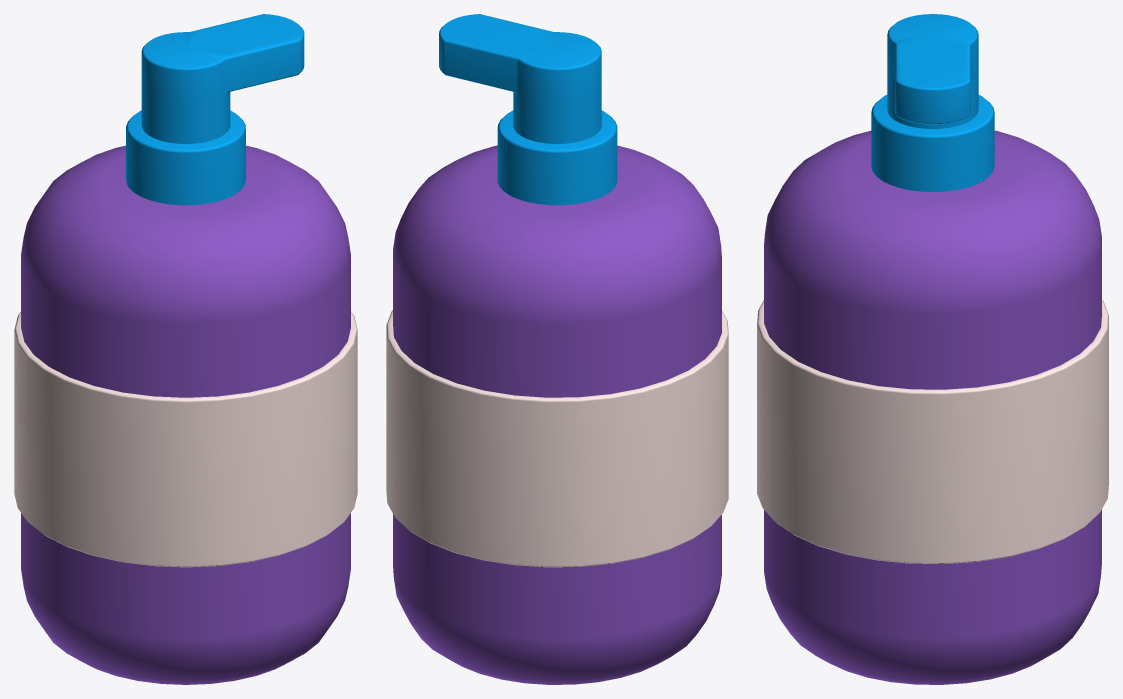
File: Public_15_Big_Bottle_2.glb
3 renders of one model, left to right at view 1: azimuth 30°, elevation 25°; view 2: azimuth 150°, elevation 25°; view 3: azimuth 270°, elevation 25°, orthographic. The views are drawn at different scales.
Visible parts, largest first — view 1: Public_15_Big_Bottle_2; view 2: Public_15_Big_Bottle_2; view 3: Public_15_Big_Bottle_2.
Boxes of the visible parts, x1,y1,x2,y2 form: Public_15_Big_Bottle_2: (14,14,357,684); Public_15_Big_Bottle_2: (386,14,728,684); Public_15_Big_Bottle_2: (757,14,1108,684).
Bounding box in the file's own units: 2.57 × 4.92 × 2.57.
1 material, 1 textured.
